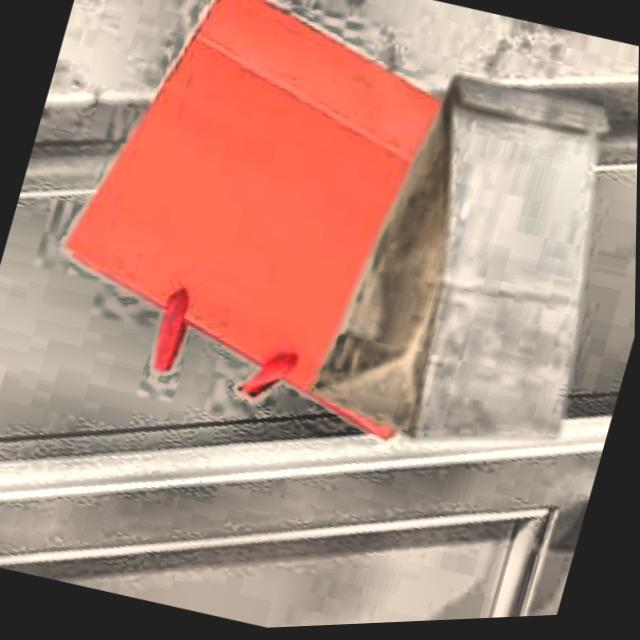Paper-bag: (14, 0, 640, 508)
